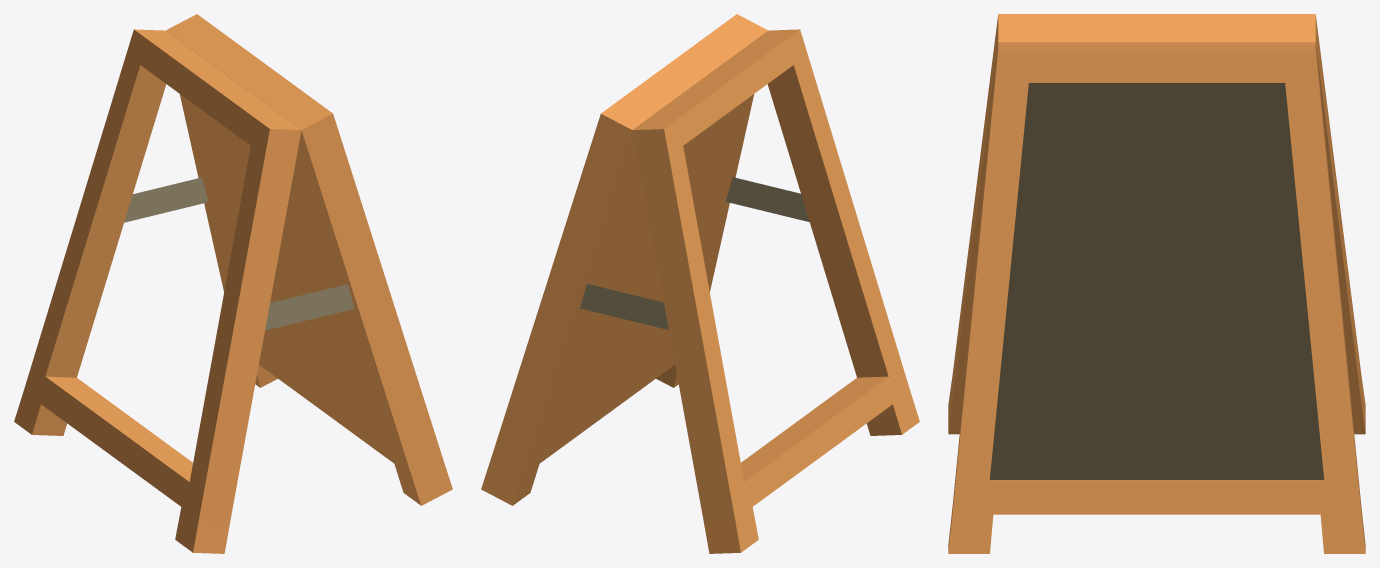
File: Signs.glb
3 views of the same model, side by side, from view 1: azimuth 30°, elevation 25°; view 2: azimuth 150°, elevation 25°; view 3: azimuth 270°, elevation 25° (orthographic). The views are drawn at different scales.
Parts seen in each view (by area): view 1: Cube.100; view 2: Cube.100; view 3: Cube.100.
Part boxes in pixels (box(x1,y1,x2,y2)): Cube.100: box(14, 14, 452, 553); Cube.100: box(481, 14, 919, 553); Cube.100: box(948, 14, 1365, 553).
Size of the model in its own units: 1.23 by 1.77 by 1.46.
1 material, 1 textured.
